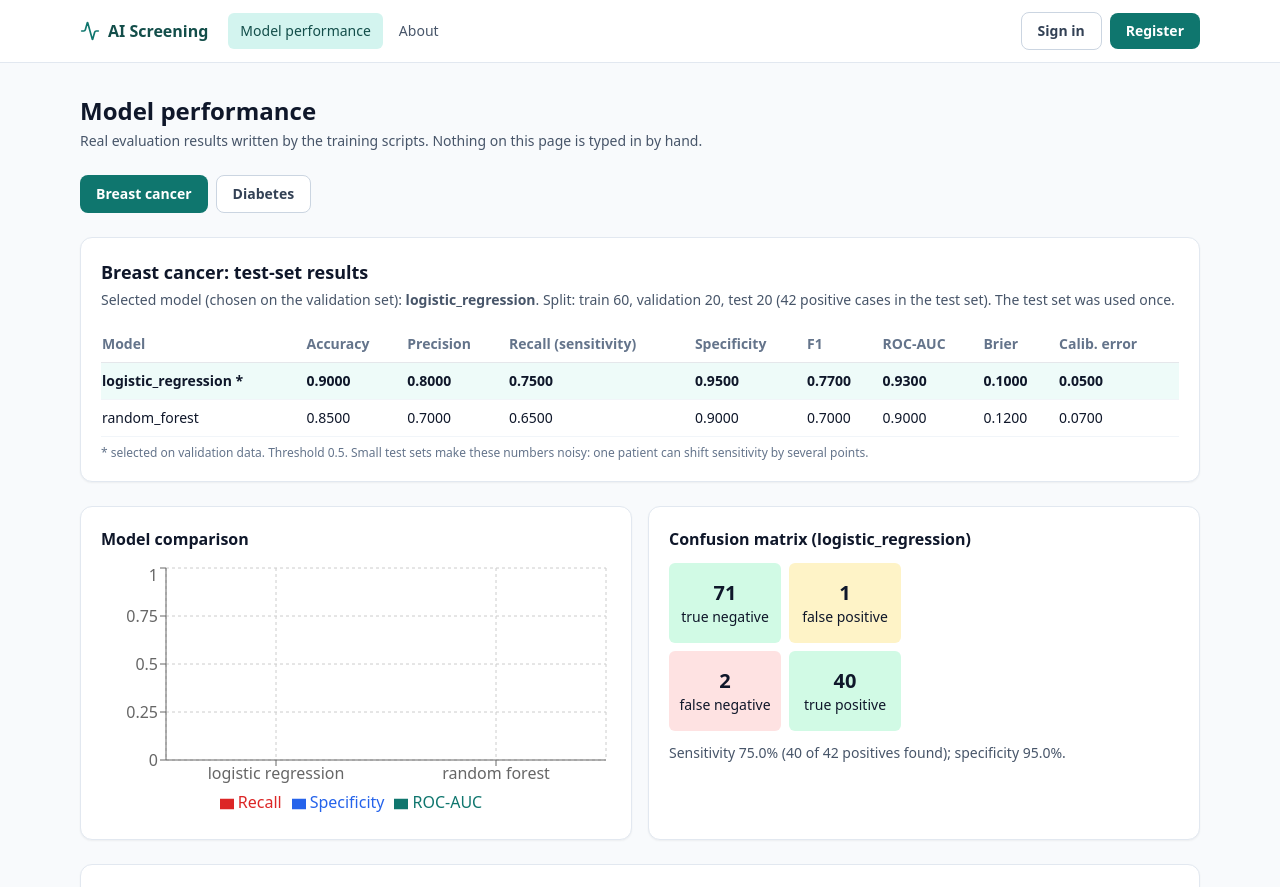
Test: model performance page › renders every number from the API response, with tabs and caveats
Expected: the heading "Breast cancer: test-set results" is shown, [101,260,368,284]
Expected: the text "0.9300" is shown, [882,363,982,400]
Click the tab "Diabetes". click: [263, 194]
box: [216,175,311,213]
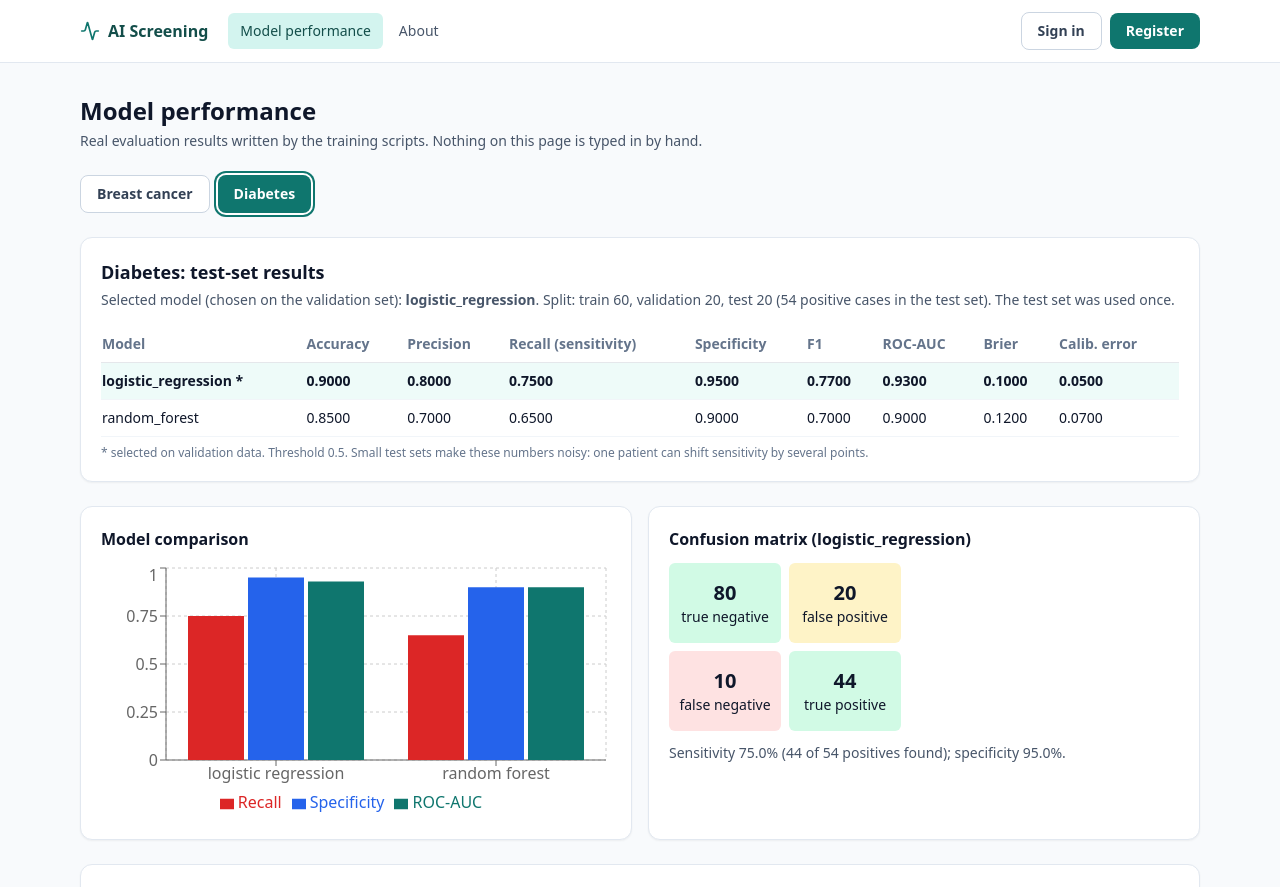
Now the heading "Diabetes: test-set results" is shown, box [101,260,324,284]
